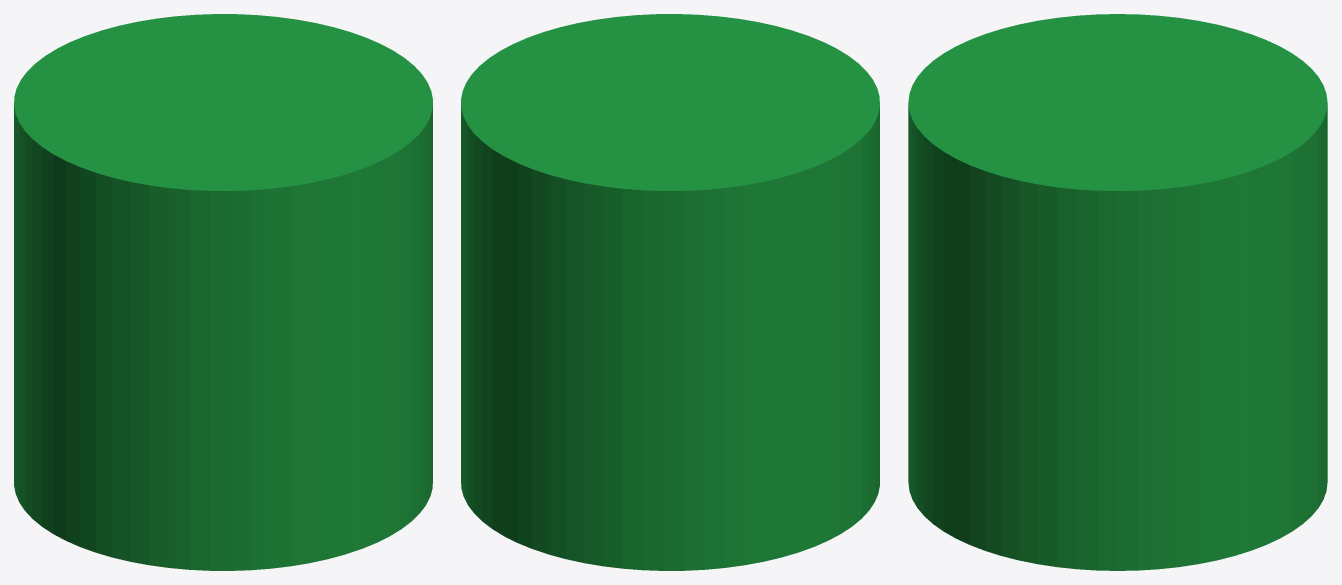
Rendered from cup.obj.
The picture shows the model from 3 angles, left to right: view 1: azimuth 30°, elevation 25°; view 2: azimuth 150°, elevation 25°; view 3: azimuth 270°, elevation 25°; orthographic projection.
Visible parts, largest first — view 1: Cylinder_Cylinder.001; view 2: Cylinder_Cylinder.001; view 3: Cylinder_Cylinder.001.
Part boxes in pixels (<box>): Cylinder_Cylinder.001: <box>14,14,432,570</box>; Cylinder_Cylinder.001: <box>461,14,879,570</box>; Cylinder_Cylinder.001: <box>908,14,1327,570</box>.
Size of the model in its own units: 2 by 2 by 2.
Materials: 1 (1 with a texture image).
